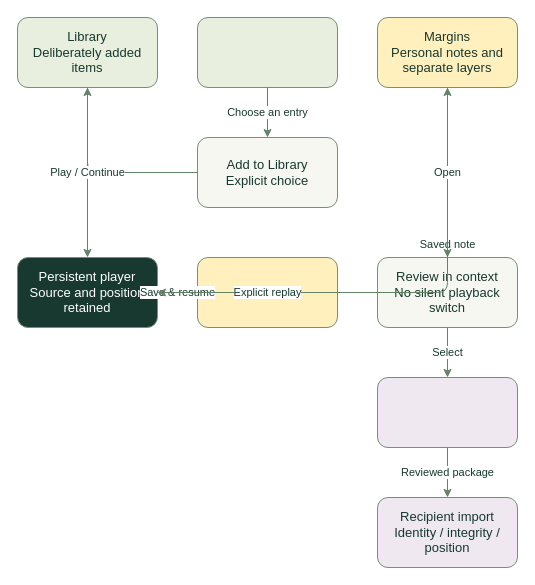
This 535x585 diagram has some shape labels left out. Each missing label, with the box of its shape:
Following (proposed label) Feeds and Quick Folder: (196, 16, 338, 88)
Record a Margin Source moment locked: (196, 256, 338, 328)
Review what leaves Selected notes and voice: (376, 376, 518, 448)
